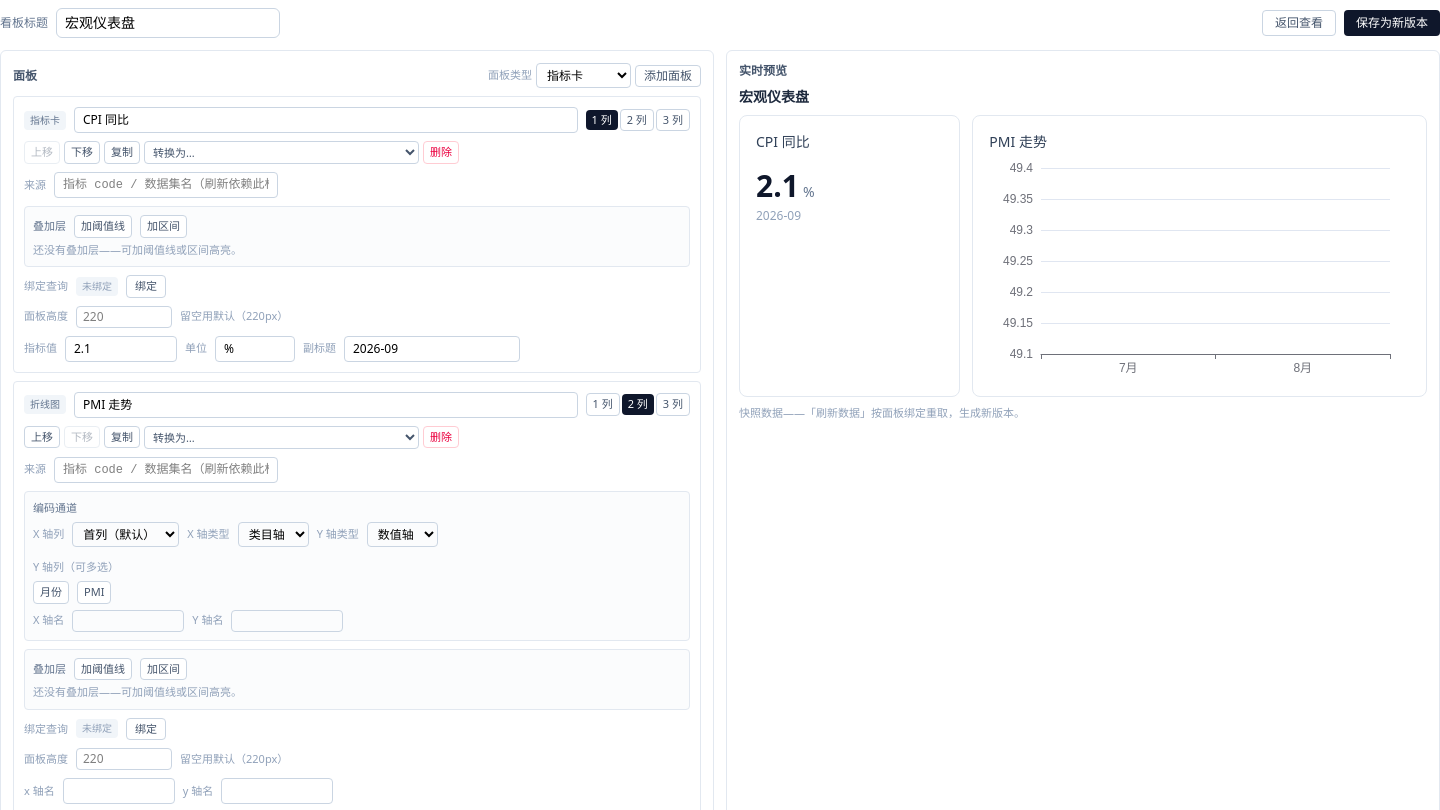
DashboardEditor（基础编辑器 v1） › 增（选 type 出模板）/删面板，预览同步
The image size is (1440, 810).
# 添加 table 面板：模板带两列空表 → 预览「无数据」如实呈现
Select "数据表" in the dropdown with test id "editor-add-type" at (584, 76), box [536,63,631,88]
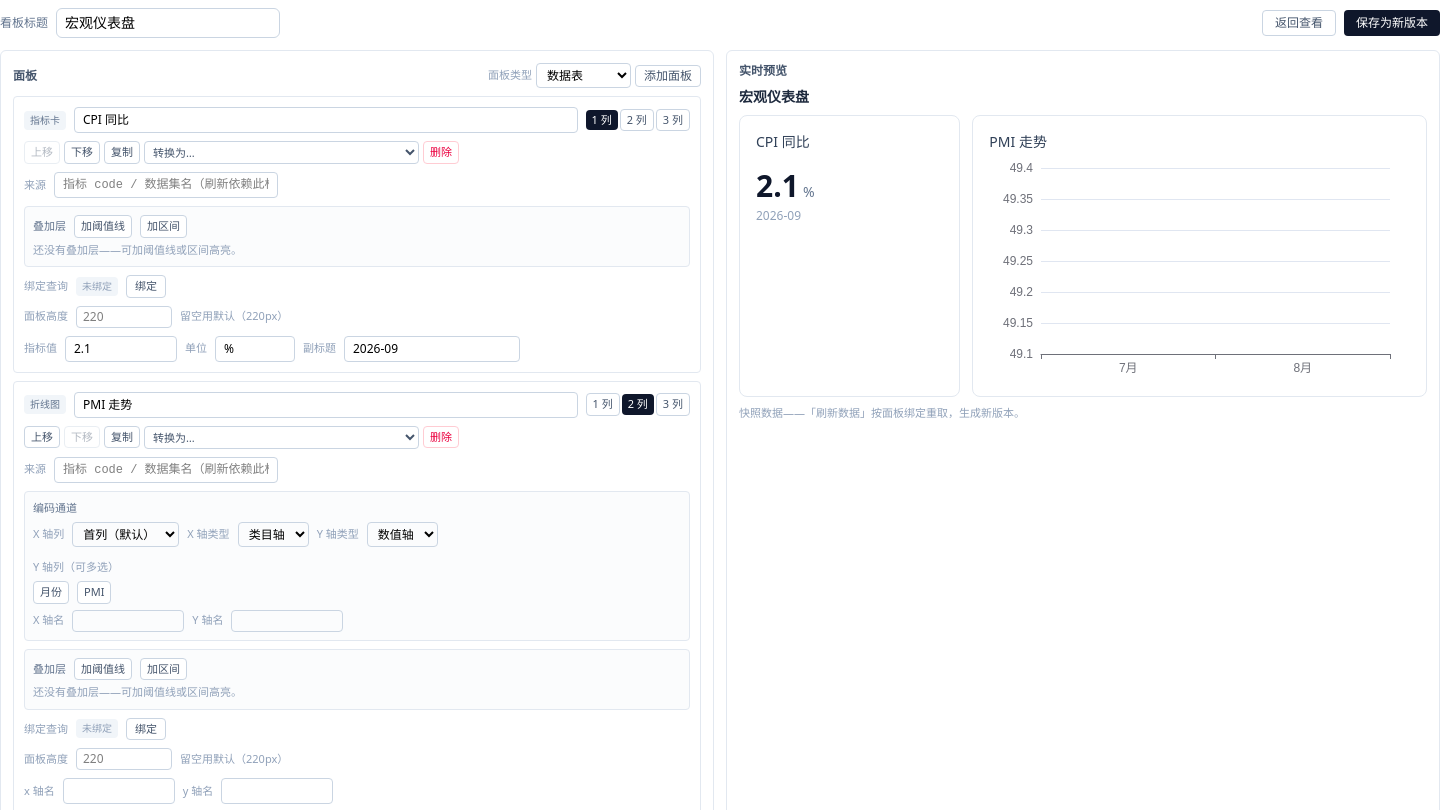
Click the button with test id "editor-add-panel".
click(668, 76)  # box [635,64,701,86]
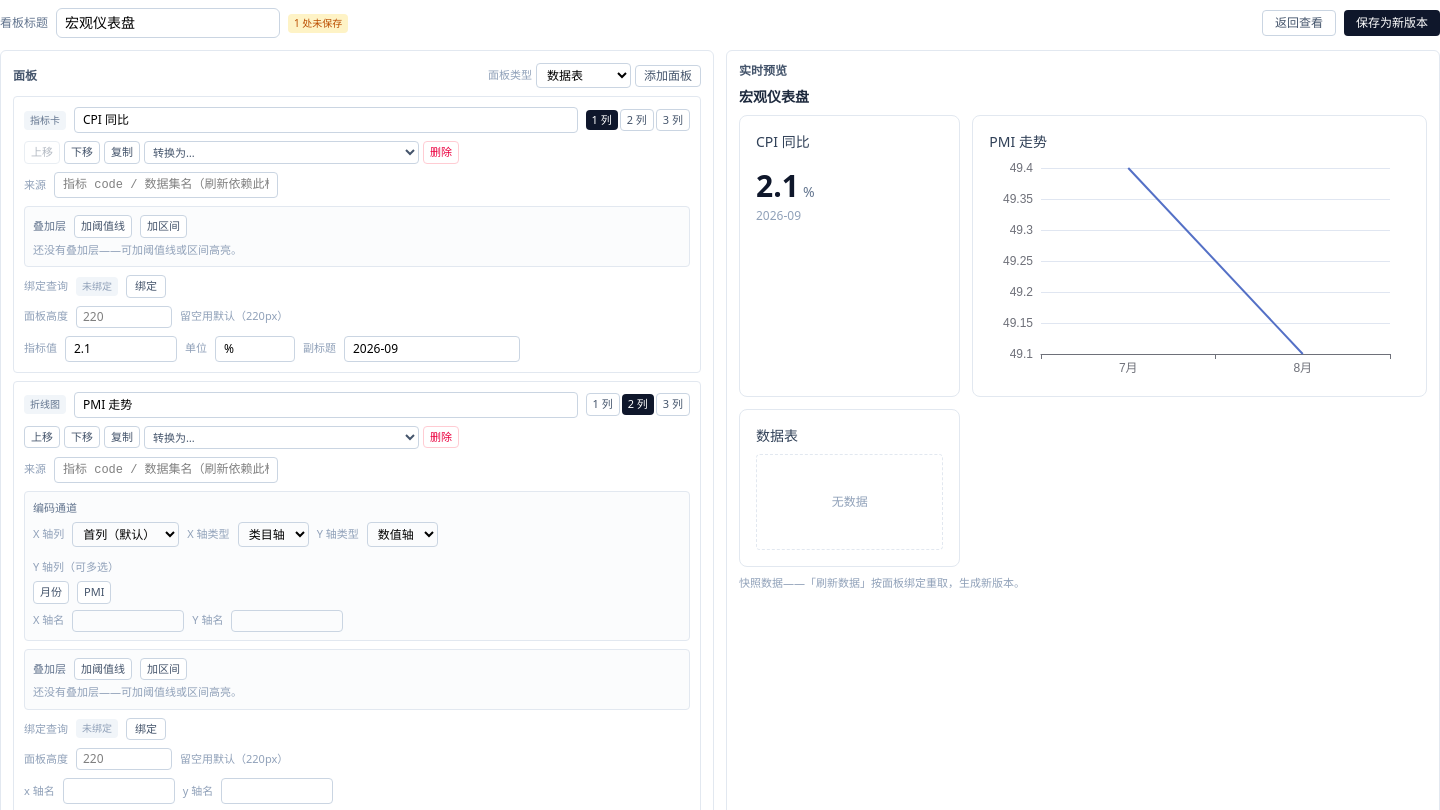
Check: the number of list items with test id "editor-panel" is 3
Check: the number of elements with test id "dashboard-panel" is 3, box [739,115,960,397]; [972,115,1427,397]; [739,409,960,567]
# 删除 kpi 面板
Click the 1st button with test id "editor-panel-remove".
click(441, 153)  # box [423,141,459,164]
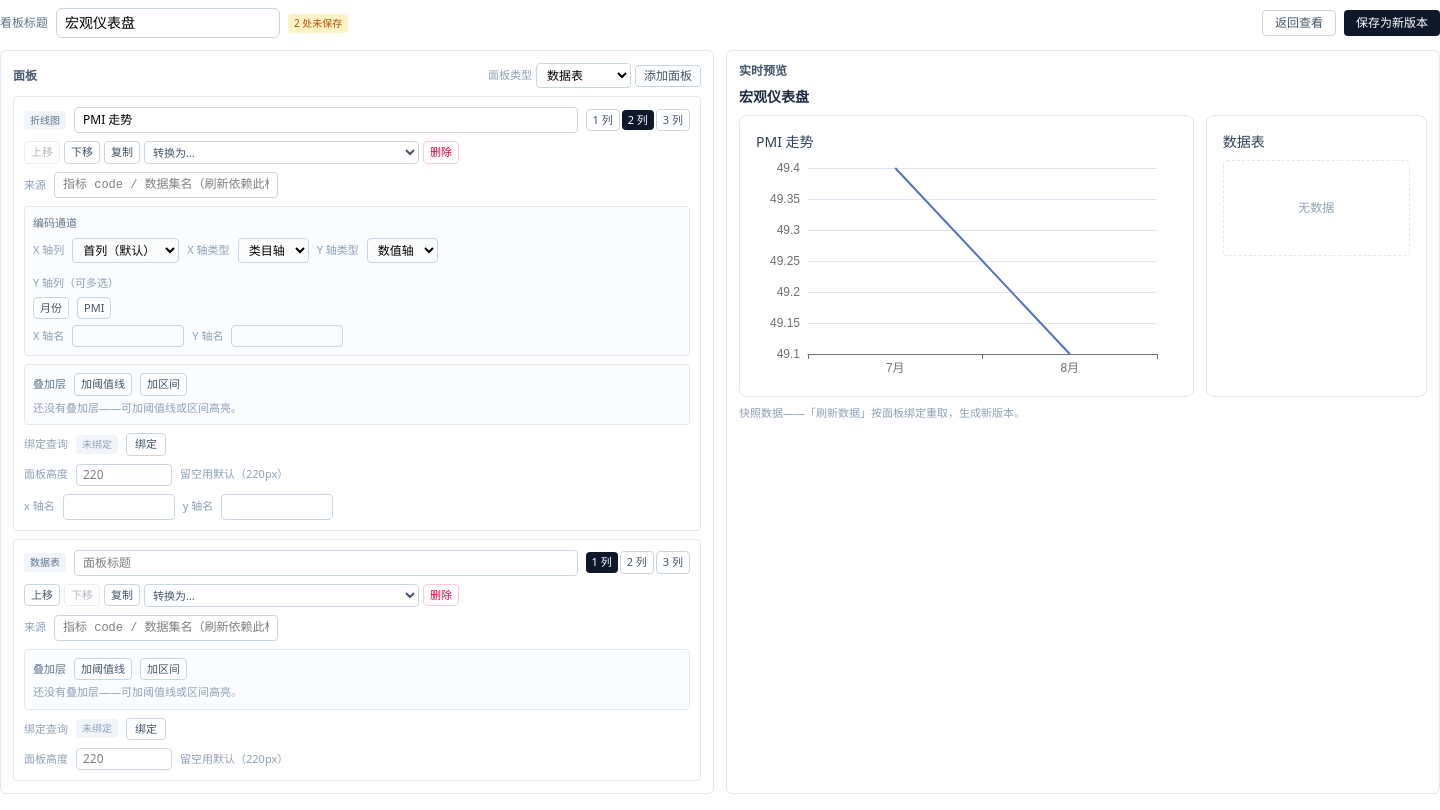
Check: the number of list items with test id "editor-panel" is 2, box [13,96,701,530]; [13,538,701,781]
Check: the text with test id "dashboard-kpi-value" is gone
